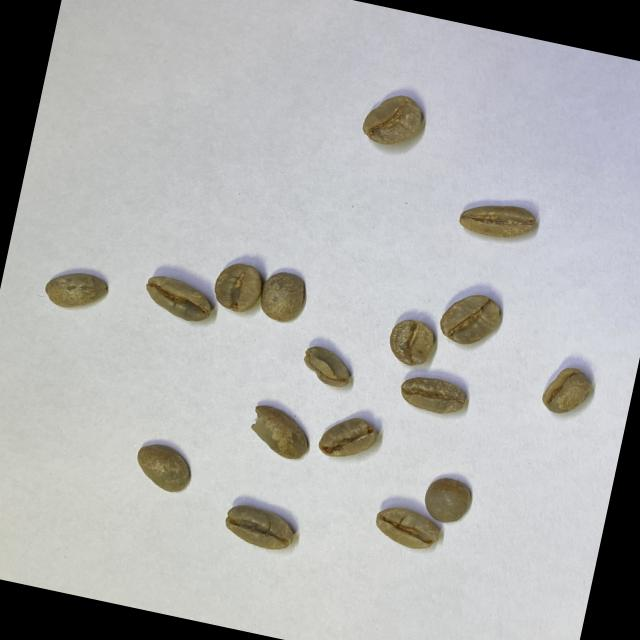bad: (240, 400, 314, 462), (316, 411, 379, 465), (298, 344, 354, 388)
good: (435, 286, 506, 352), (218, 501, 298, 554), (358, 90, 426, 152), (456, 195, 538, 246), (141, 272, 215, 326), (370, 501, 444, 554), (394, 370, 469, 419), (131, 440, 196, 496), (42, 265, 112, 316), (537, 361, 596, 419), (256, 267, 310, 327), (211, 258, 265, 318), (420, 473, 476, 527), (384, 316, 439, 370)
